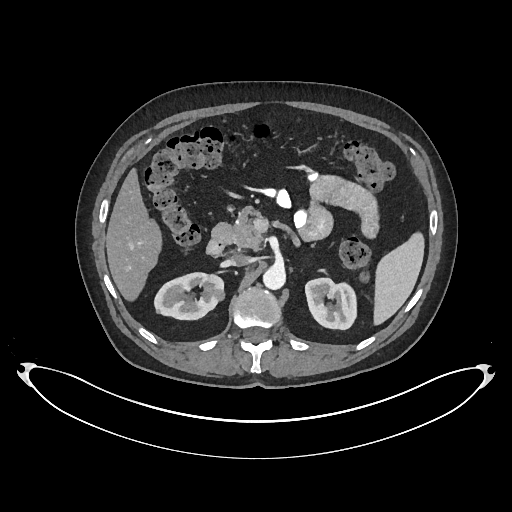Lesion: (211, 286, 229, 304)
